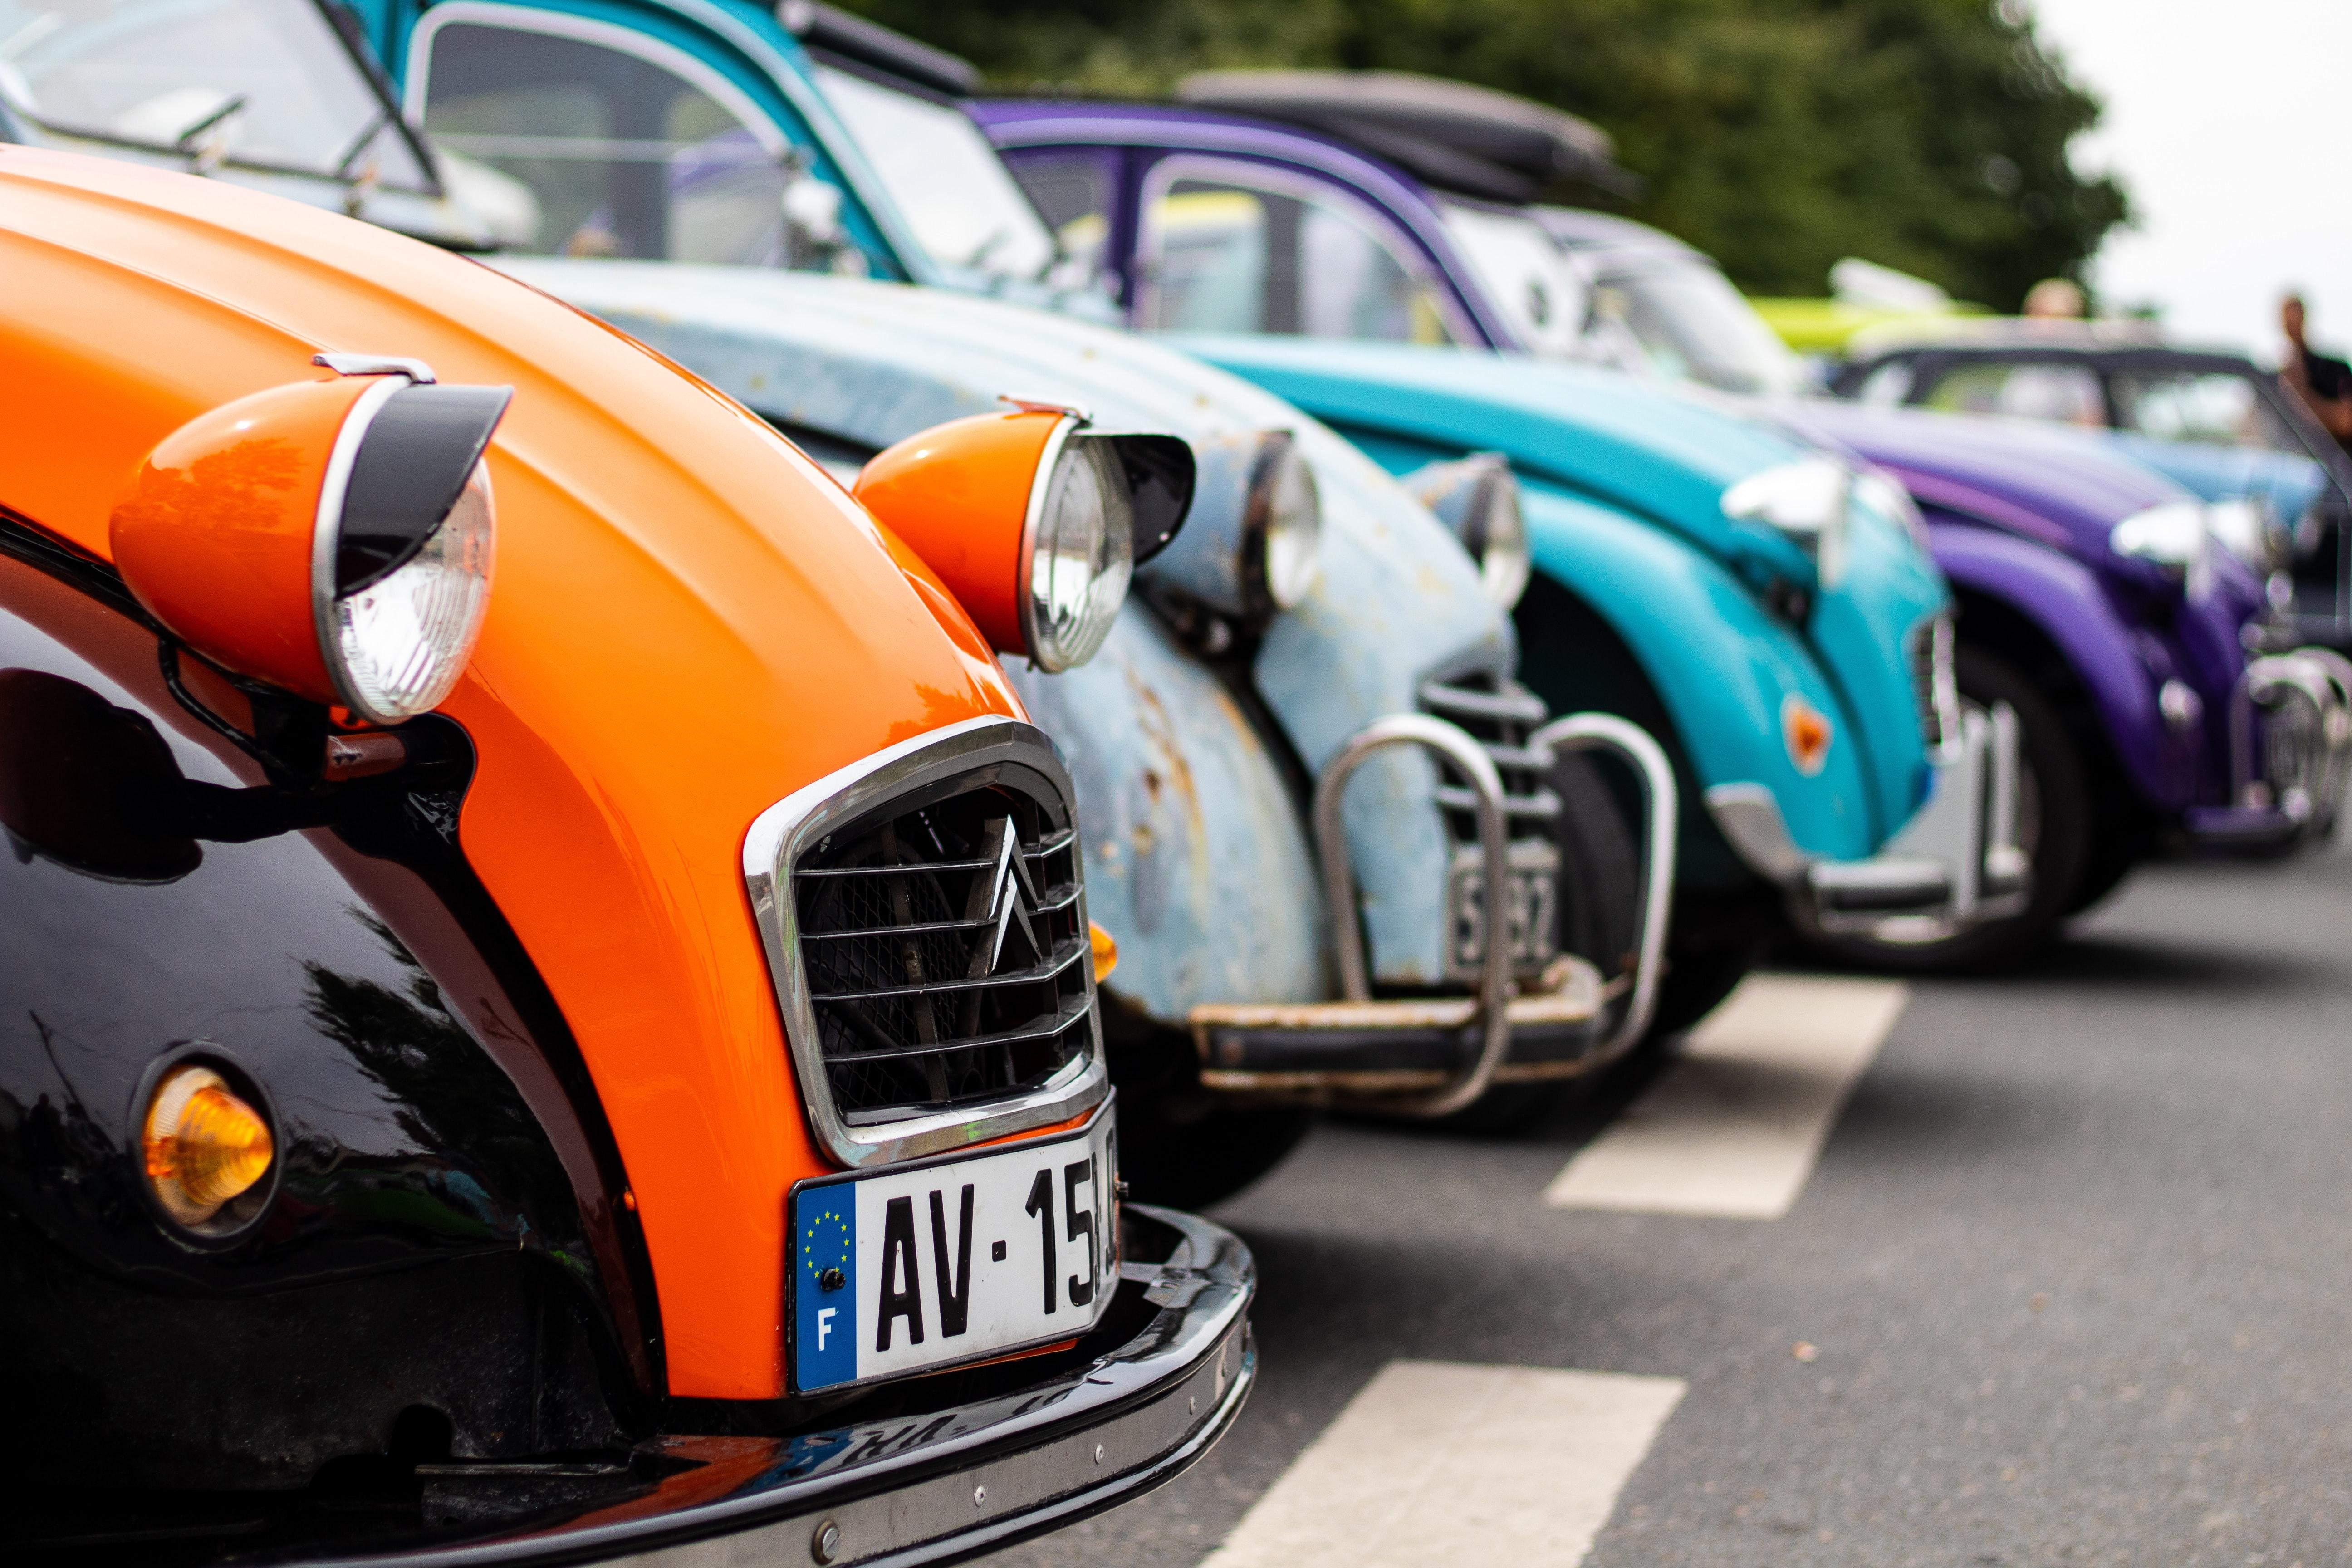Citroen: (935, 779, 1069, 994)
